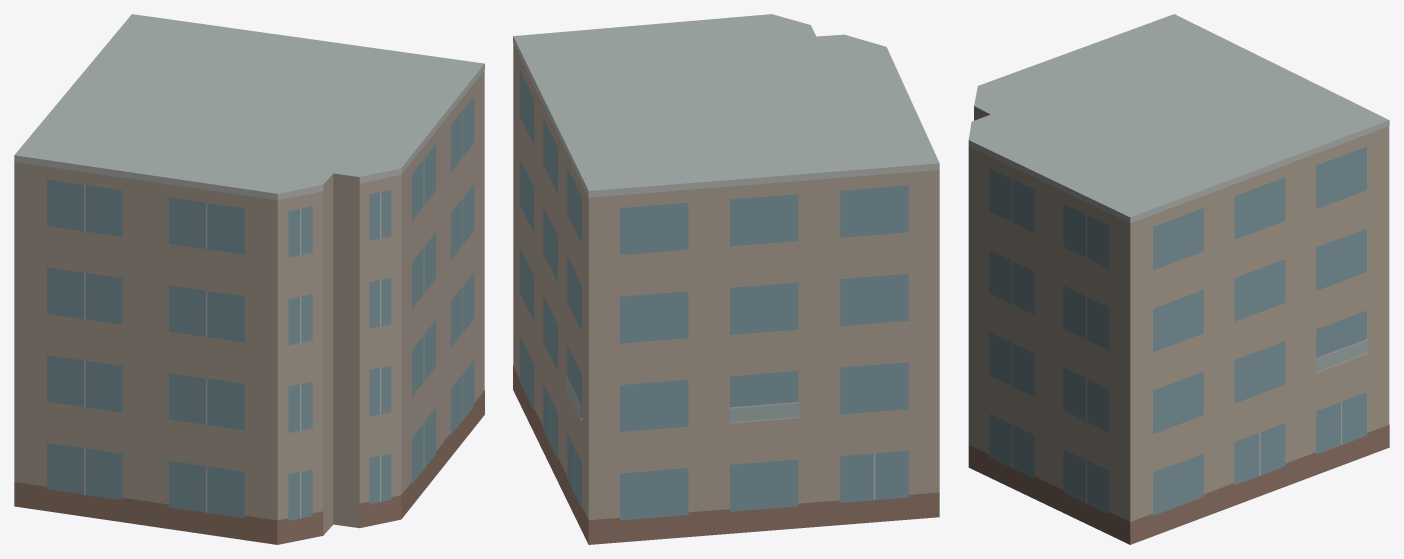
The model's file is survey-upis-32628731.glb.
The picture shows the model from 3 angles, left to right: view 1: azimuth 30°, elevation 25°; view 2: azimuth 150°, elevation 25°; view 3: azimuth 270°, elevation 25°; orthographic projection. The views are drawn at different scales.
Parts seen in each view (by area): view 1: survey-upis-32628731.tmp; view 2: survey-upis-32628731.tmp; view 3: survey-upis-32628731.tmp.
Part boxes in pixels (x1,y1,x2,y2): survey-upis-32628731.tmp: (14,14,484,544); survey-upis-32628731.tmp: (513,14,939,544); survey-upis-32628731.tmp: (968,14,1389,544).
Size of the model in its own units: 17.59 by 13.2 by 15.38.
